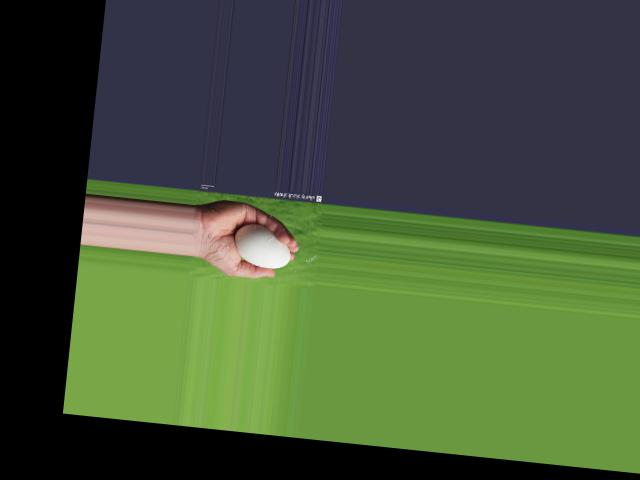egg: (230, 221, 292, 270)
